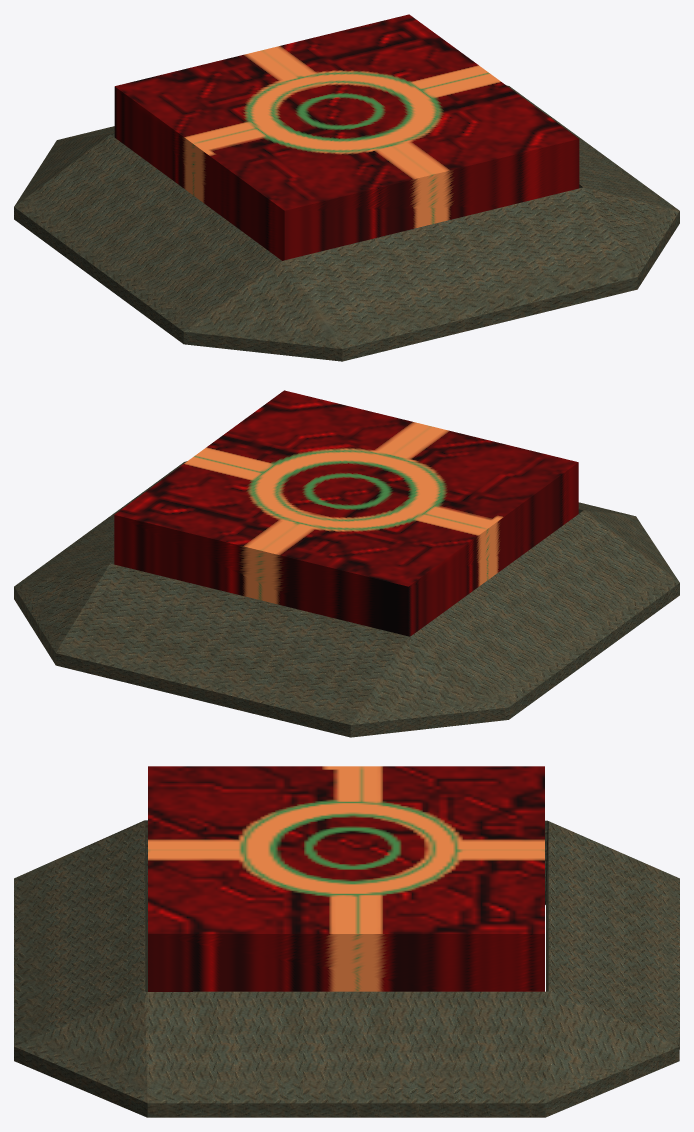
File: Button.fbx
The picture shows the model from 3 angles, top to bottom: view 1: azimuth 30°, elevation 25°; view 2: azimuth 150°, elevation 25°; view 3: azimuth 270°, elevation 25°; orthographic projection. The views are drawn at different scales.
Parts seen in each view (by area): view 1: Cube, Plane; view 2: Cube, Plane; view 3: Cube, Plane.
Boxes of the visible parts, x1,y1,x2,y2 form: Cube: (14, 85, 679, 361); Plane: (114, 14, 579, 260); Cube: (14, 461, 679, 737); Plane: (114, 390, 578, 636); Cube: (14, 820, 679, 1117); Plane: (148, 766, 544, 991).
Bounding box in the file's own units: 167 × 38.28 × 166.
Materials: 2 (2 with a texture image).
